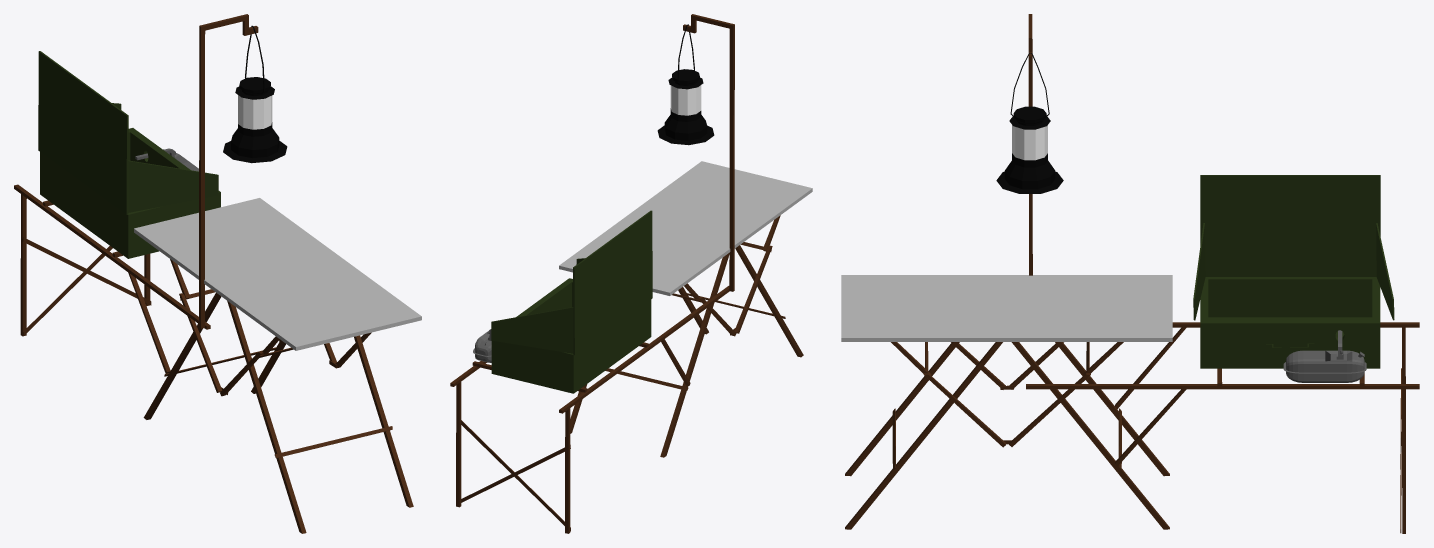
Rendered from grill set.fbx.
3 renders of one model, left to right at view 1: azimuth 30°, elevation 25°; view 2: azimuth 150°, elevation 25°; view 3: azimuth 270°, elevation 25°, orthographic. The views are drawn at different scales.
Parts seen in each view (by area): view 1: Grill Set, Grill, Lantern; view 2: Grill Set, Grill, Lantern; view 3: Grill, Grill Set, Lantern.
Boxes of the visible parts, box(x1,y1,x2,y2) form: Grill Set: box(14, 14, 421, 533); Grill: box(38, 51, 220, 258); Lantern: box(223, 25, 287, 163); Grill Set: box(450, 14, 812, 533); Grill: box(473, 210, 652, 393); Lantern: box(657, 24, 714, 145); Grill: box(1193, 175, 1394, 382); Grill Set: box(841, 14, 1419, 533); Lantern: box(996, 53, 1063, 193).
Bounding box in the file's own units: 62.75 × 194 × 224.
